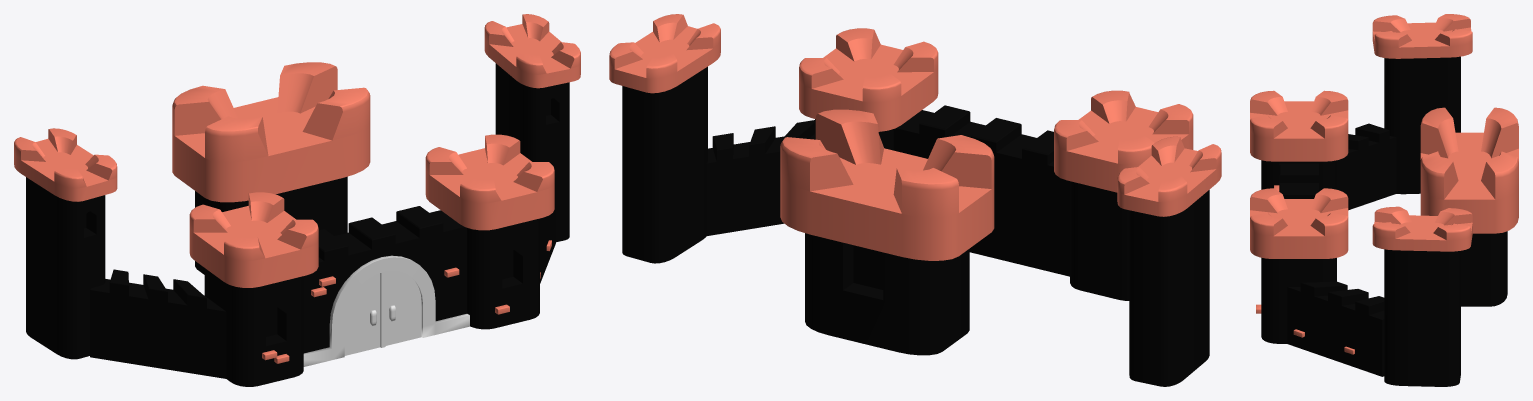
The model's file is Castle.fbx.
3 renders of one model, left to right at view 1: azimuth 30°, elevation 25°; view 2: azimuth 150°, elevation 25°; view 3: azimuth 270°, elevation 25°, orthographic. The views are drawn at different scales.
Parts seen in each view (by area): view 1: Cube, Cube.002; view 2: Cube; view 3: Cube.
Boxes of the visible parts, <box> form: Cube: <box>14,14,580,386</box>; Cube.002: <box>303,255,469,366</box>; Cube: <box>609,14,1221,386</box>; Cube: <box>1250,14,1518,386</box>.
Bounding box in the file's own units: 411 × 140 × 214.
